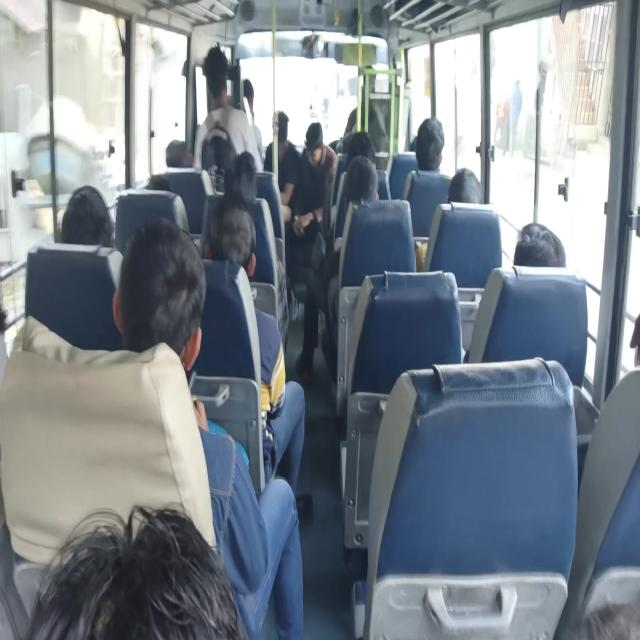person: (21, 504, 248, 639), (477, 222, 568, 378), (114, 217, 206, 369), (297, 120, 338, 236), (206, 188, 256, 270), (264, 112, 299, 228), (60, 186, 114, 250), (202, 52, 242, 122), (514, 221, 566, 268), (341, 154, 378, 212), (414, 117, 445, 173), (225, 151, 264, 189), (448, 167, 482, 205), (165, 140, 194, 170), (349, 128, 376, 160), (146, 174, 176, 192)
